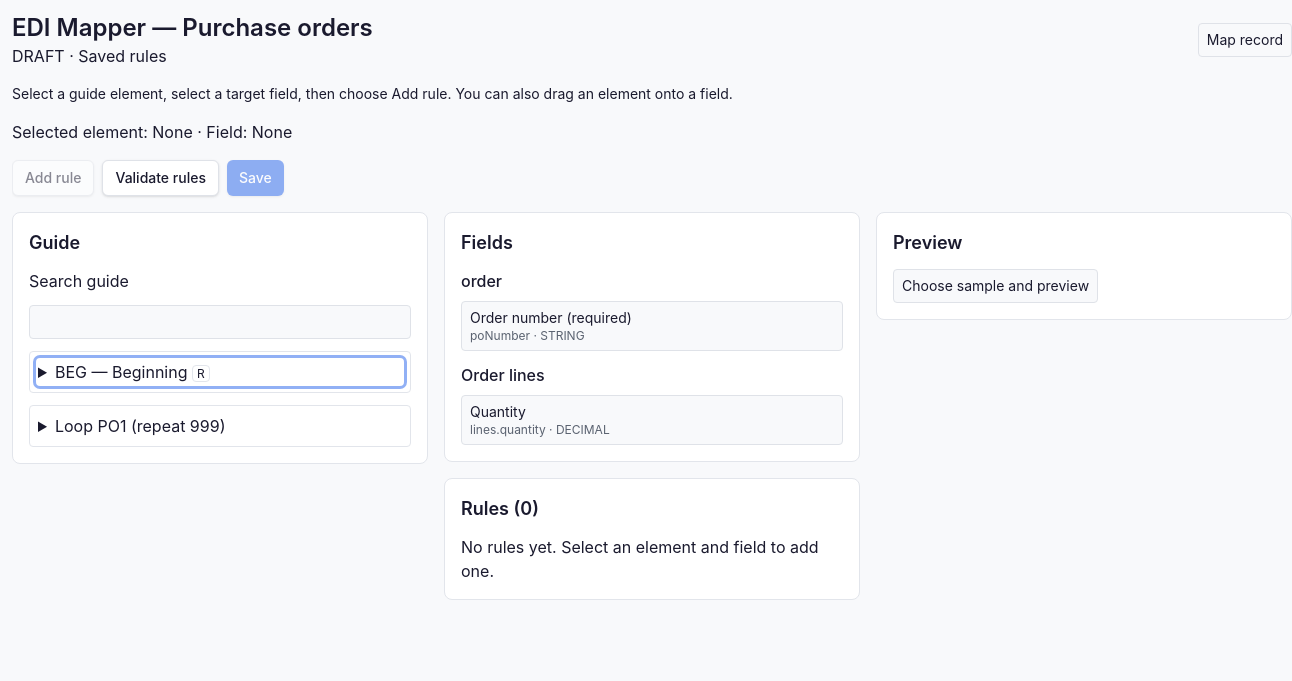
it: rechecks draft status before writes
The image size is (1292, 681).
Press Enter
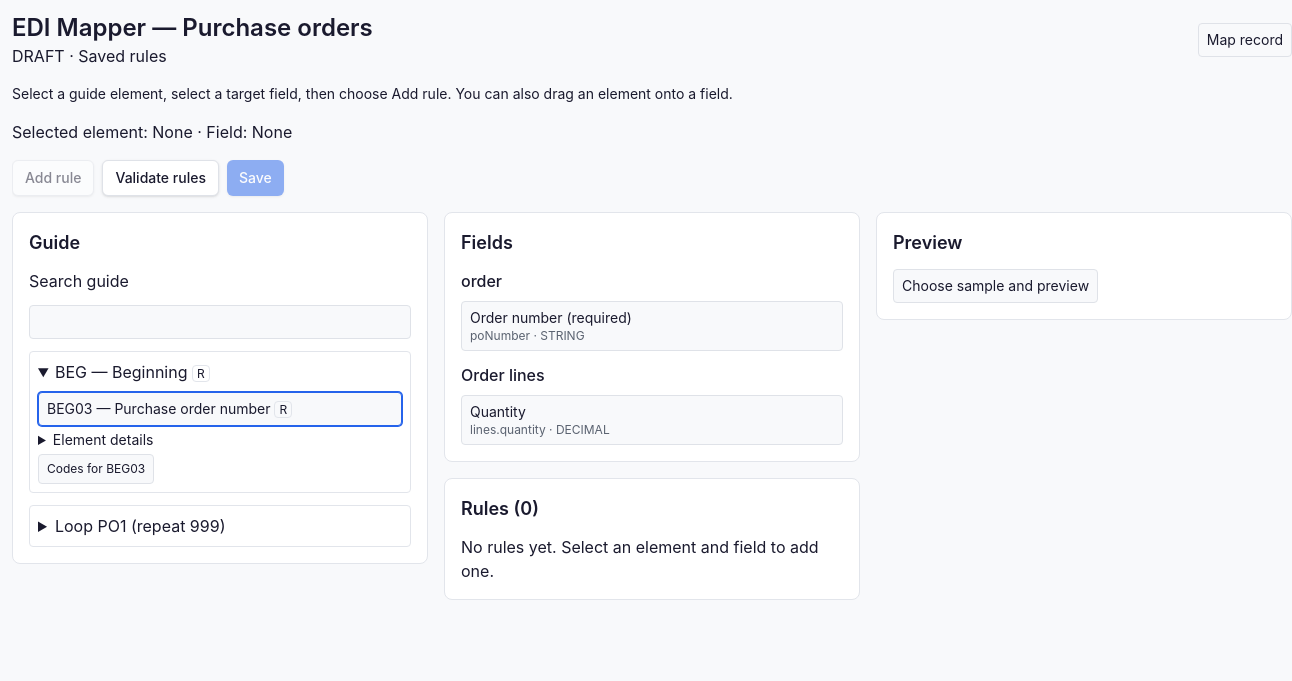
Press Enter
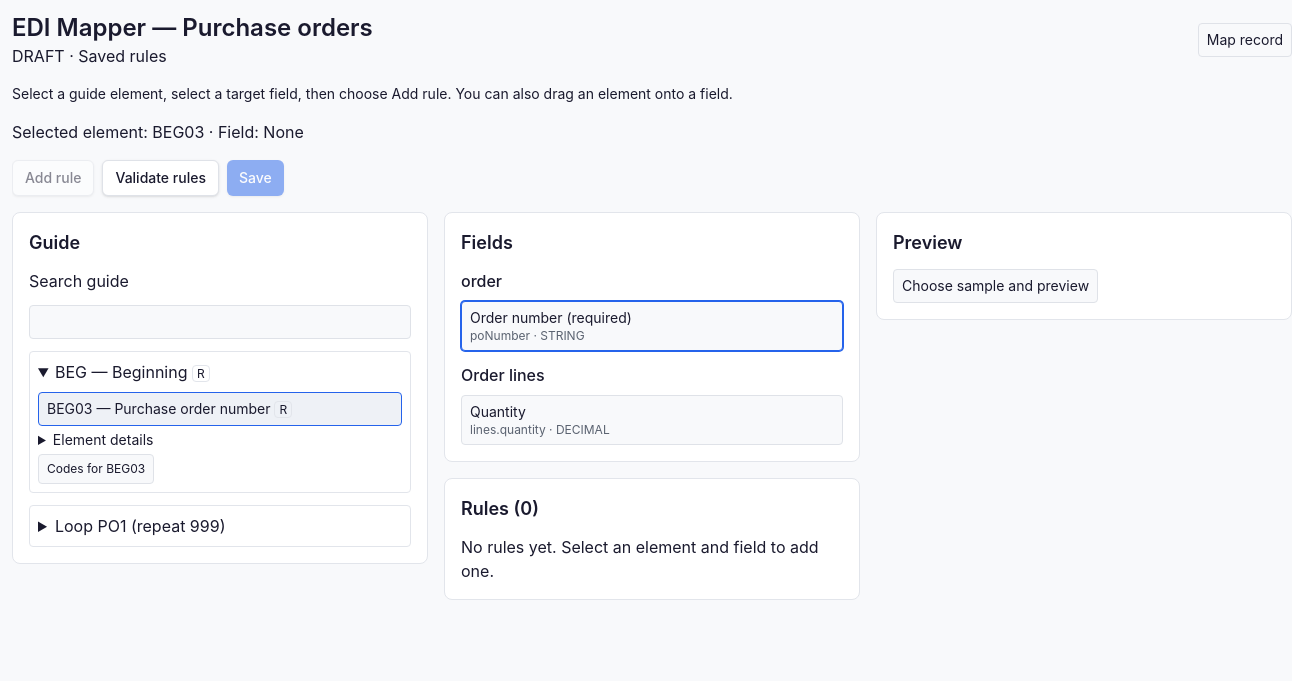
Press Enter
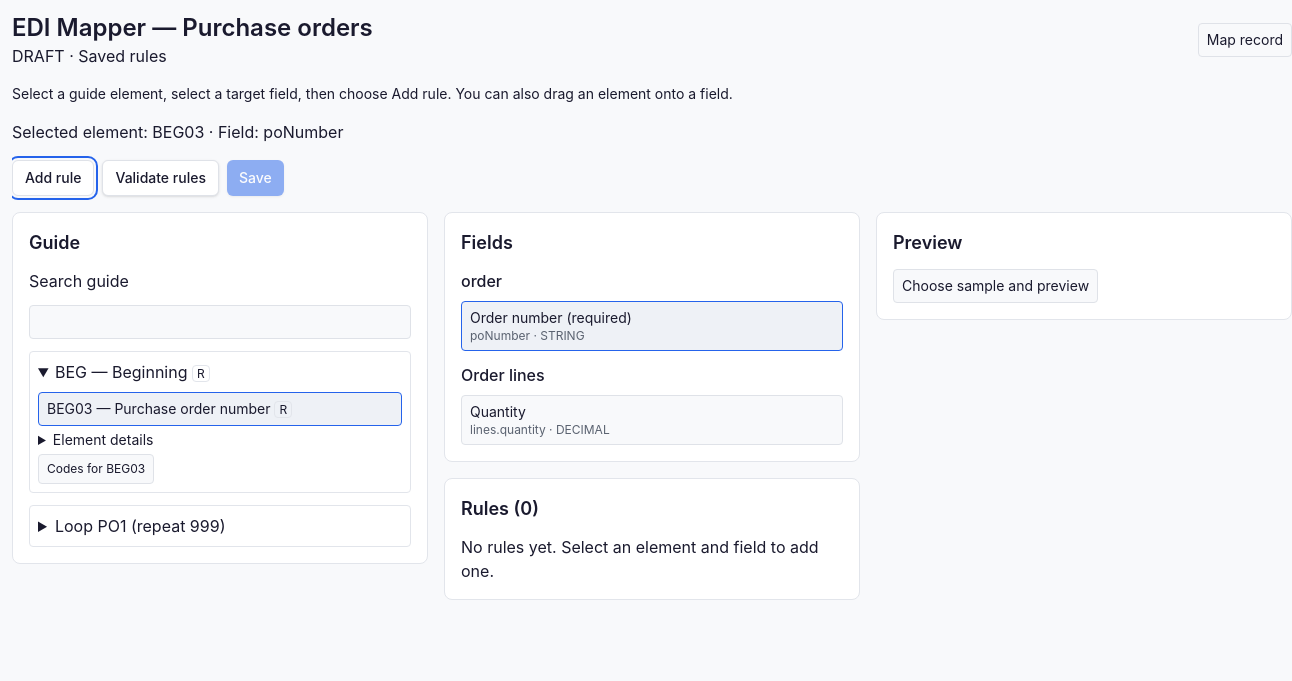
Press Enter
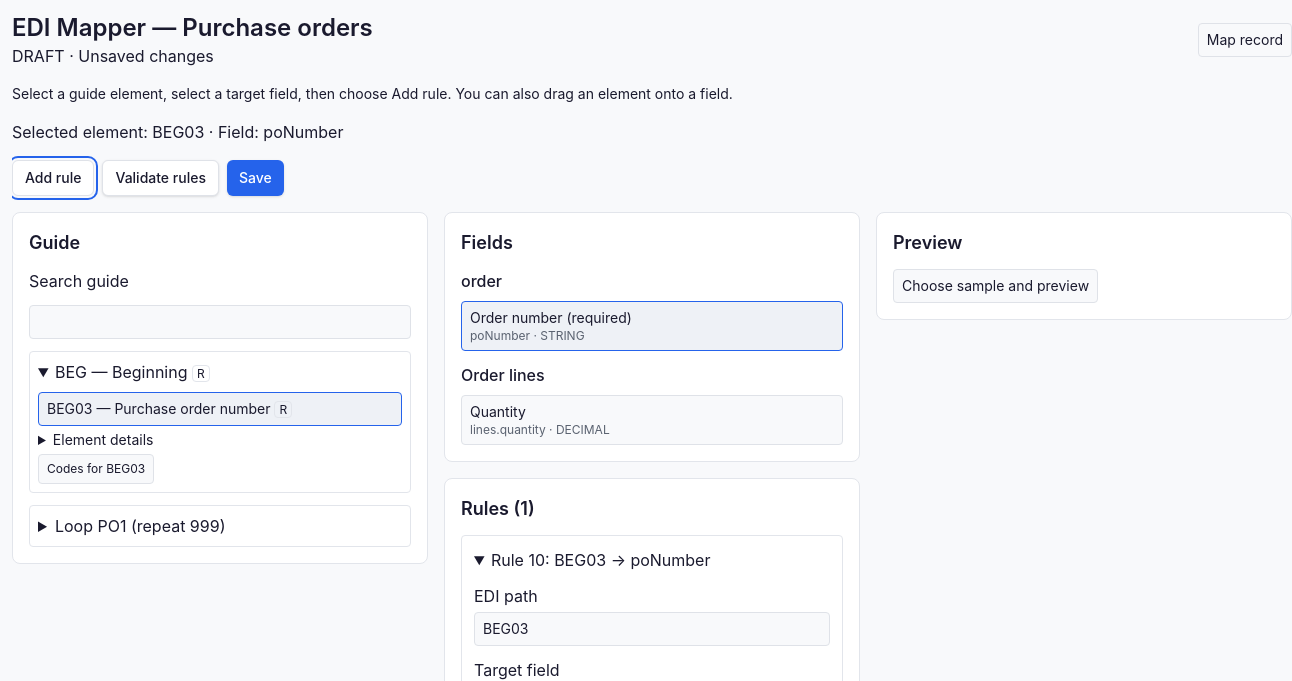
Click the button "Save": click(255, 178) [227,160,284,196]
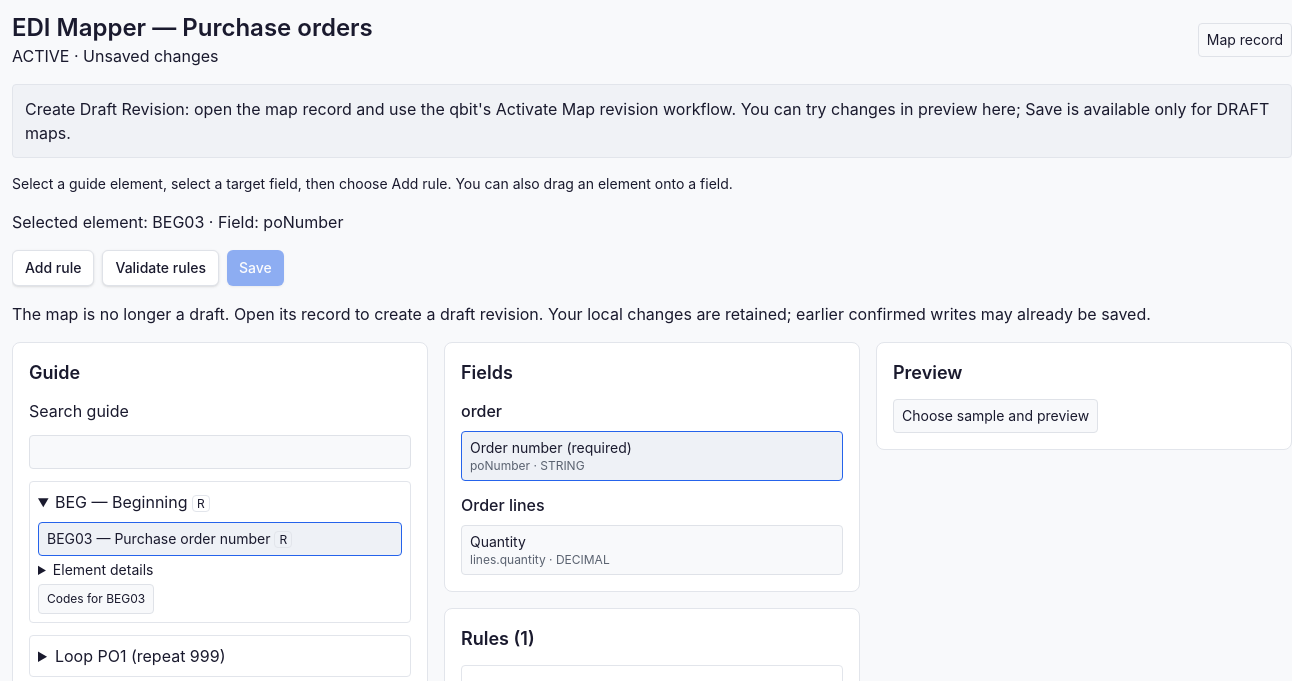
expect the 2nd message shows "no longer a draft": met, box [12,304,543,324]
